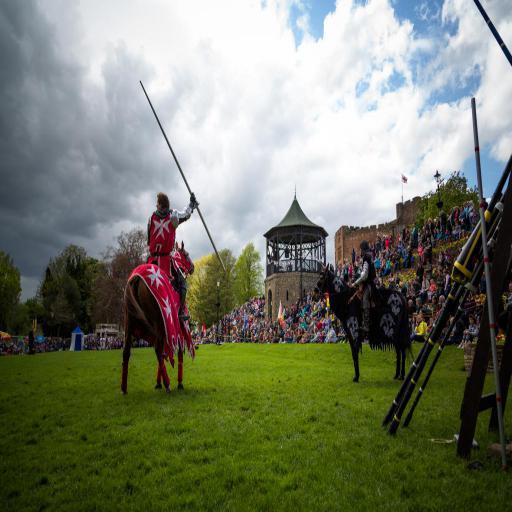horse: (312, 263, 412, 381), (120, 240, 194, 395)
